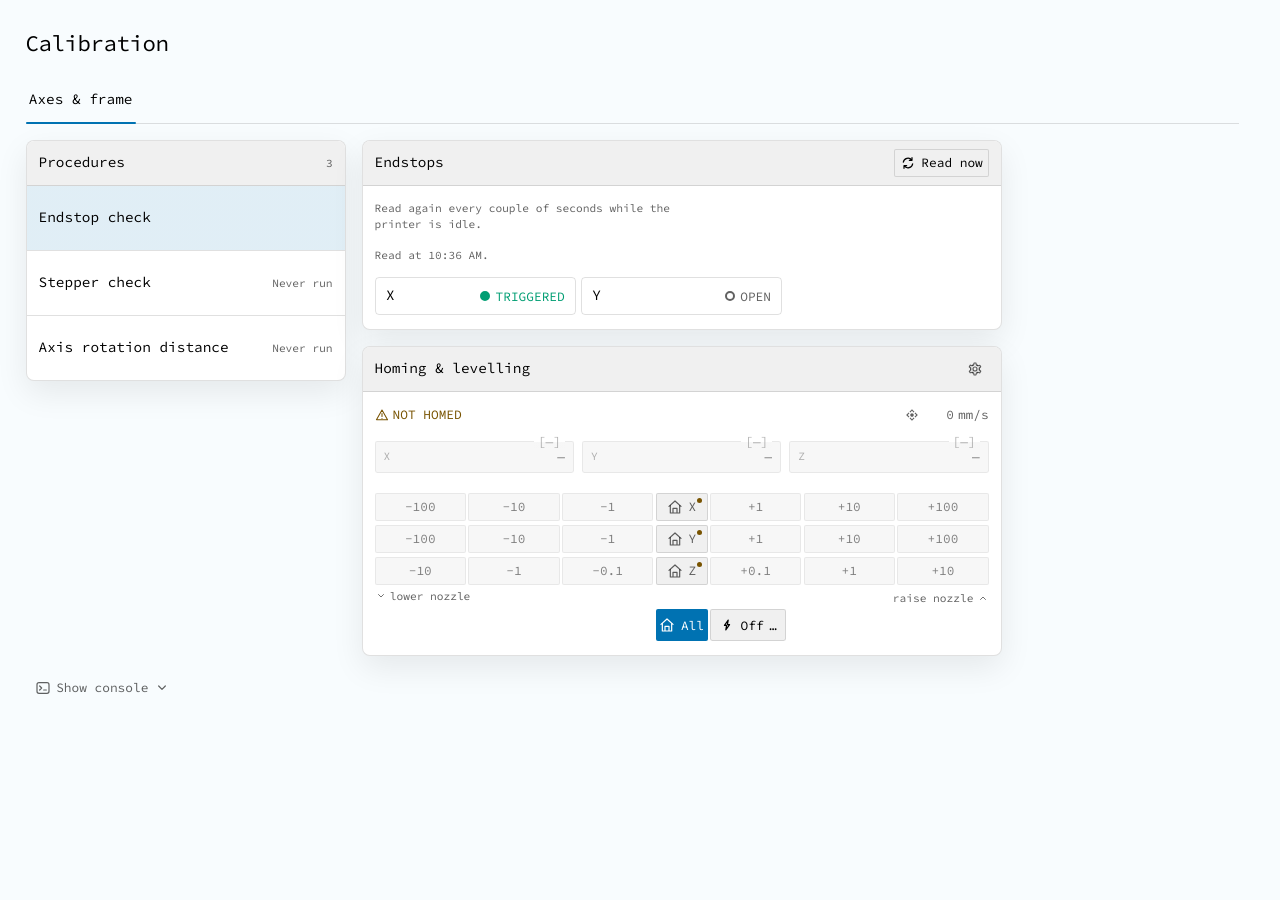
it: Calibration view › lays a short choice out as rows rather than a dropdown
The width and height of the screenshot is (1280, 900).
Click the button with class "calibration-procedure" showing "Stepper check Never run": [95, 282] box [27,251,345,315]
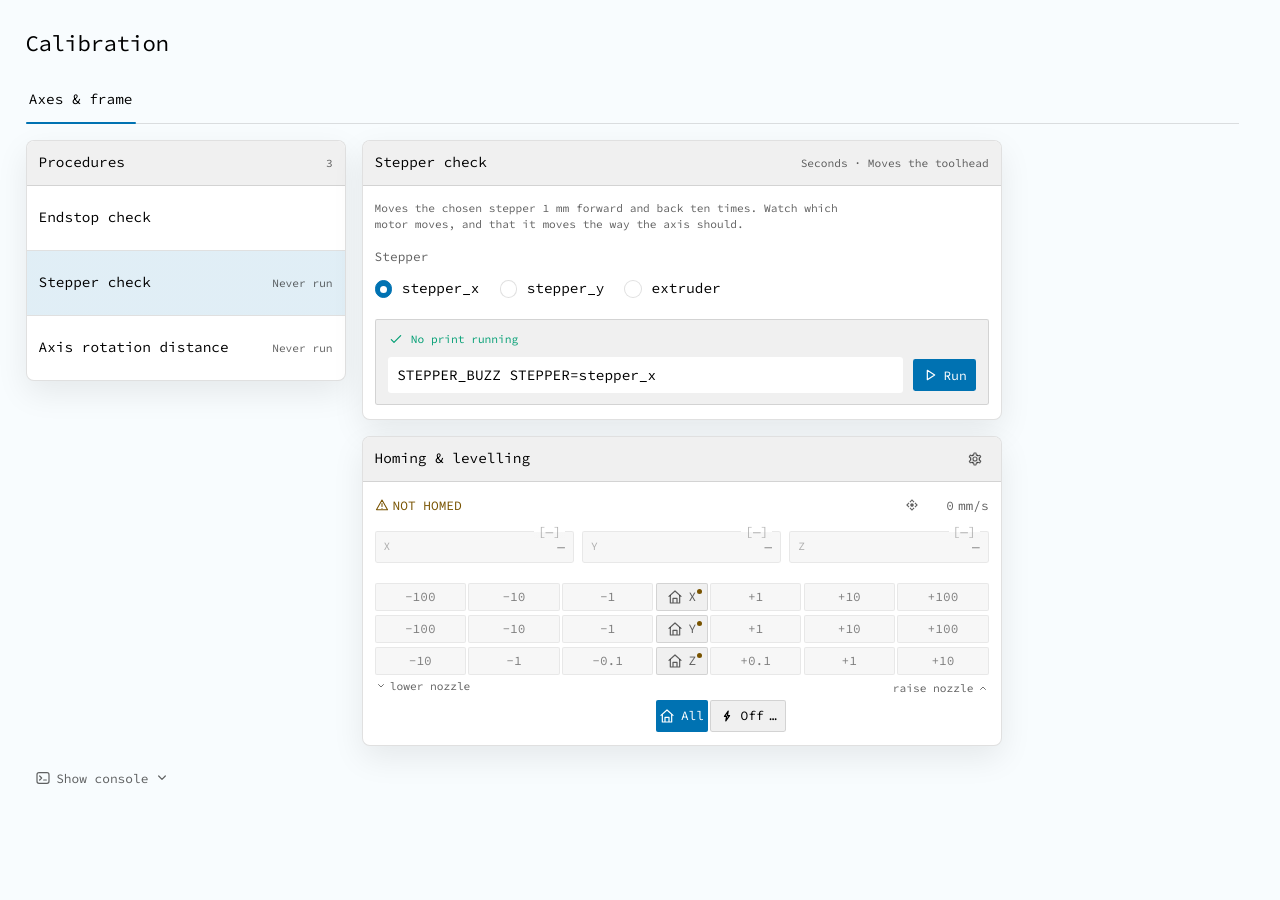
Expected: the elements with class "calibration-choice__row" read "stepper_x", "stepper_y", "extruder", in this order, [375,279,480,298]; [500,279,604,298]; [624,279,721,298]
Click the radio button labelled "stepper_y": [508, 289] box [500,280,517,298]
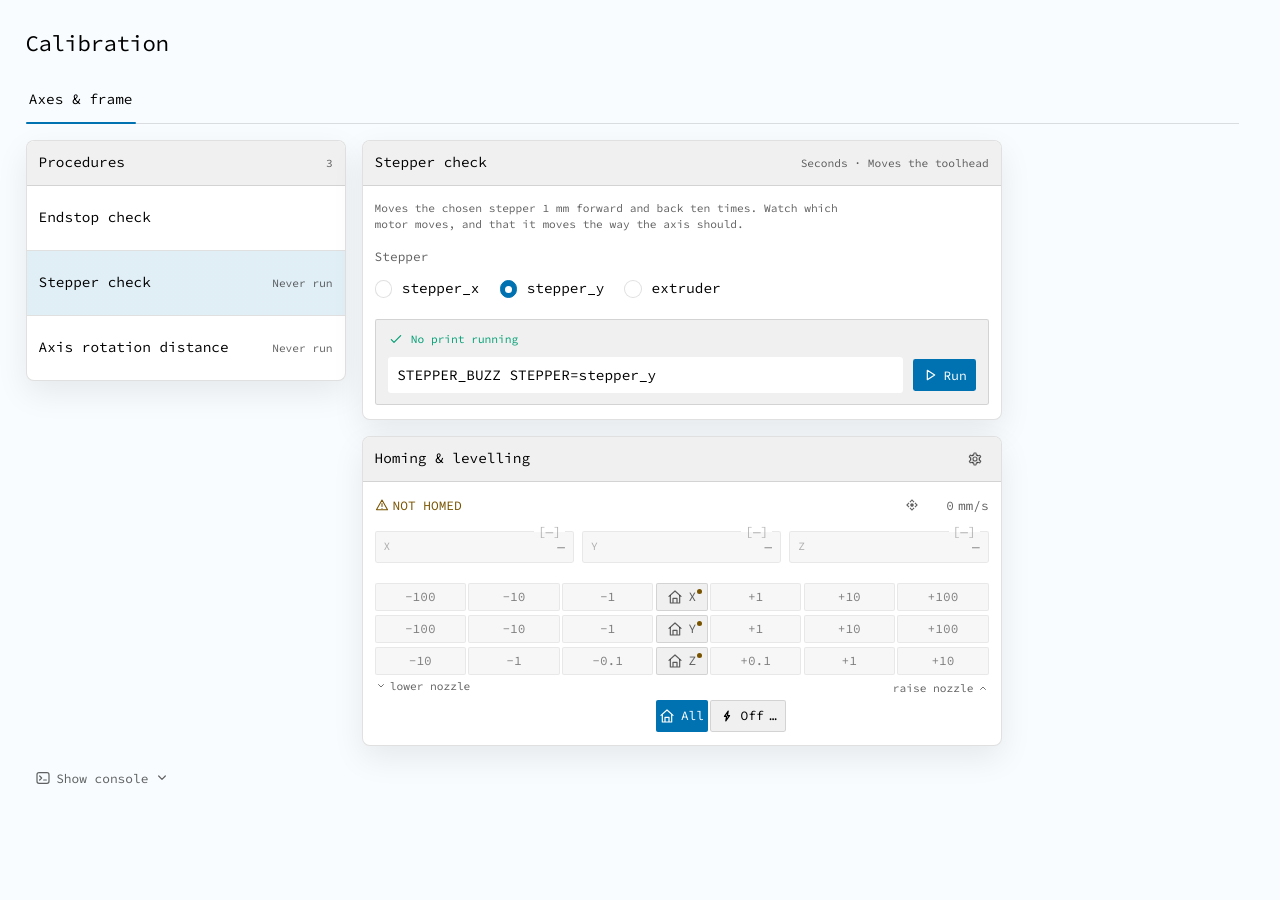
Expected: the text with class "calibration-run__script" reads "STEPPER_BUZZ STEPPER=stepper_y", [397,366,656,384]
